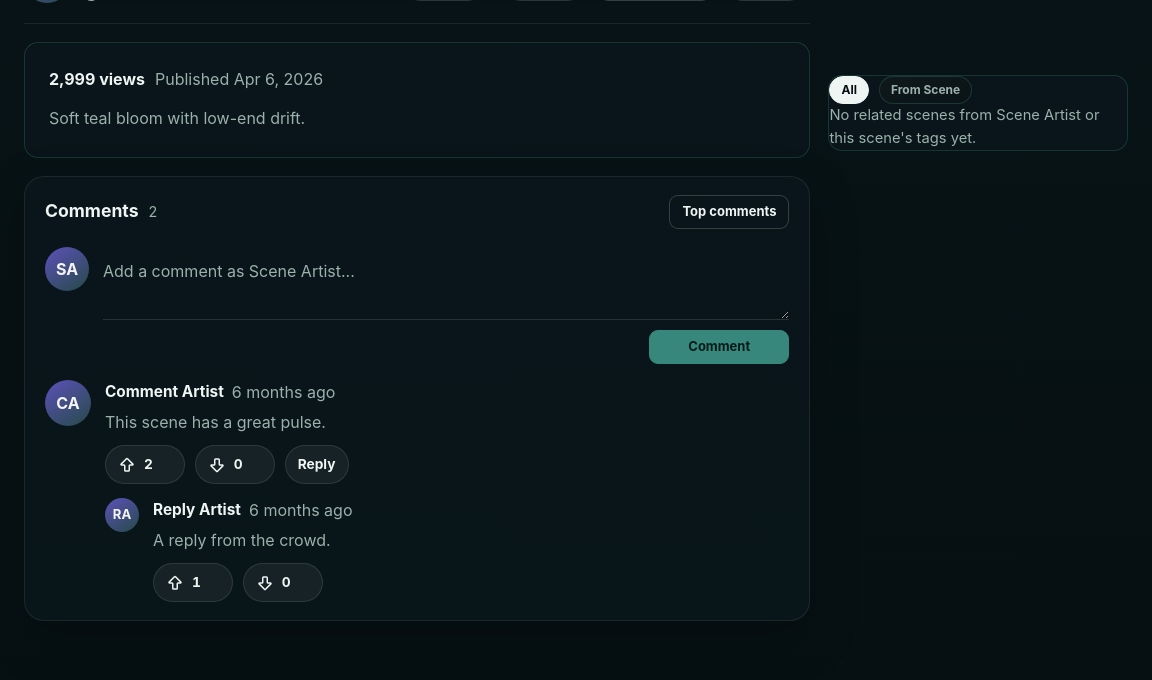
Test: SceneDetailPage route states › loads comments and supports replies and comment voting
(page scrolled)
Expected: the text "This scene has a great pulse." is shown, [105,412,326,432]
Expected: the text "A reply from the crowd." is shown, [153,530,331,550]
Click the button named "upvote 2". click: (145, 464)
box: [105,445,185,484]
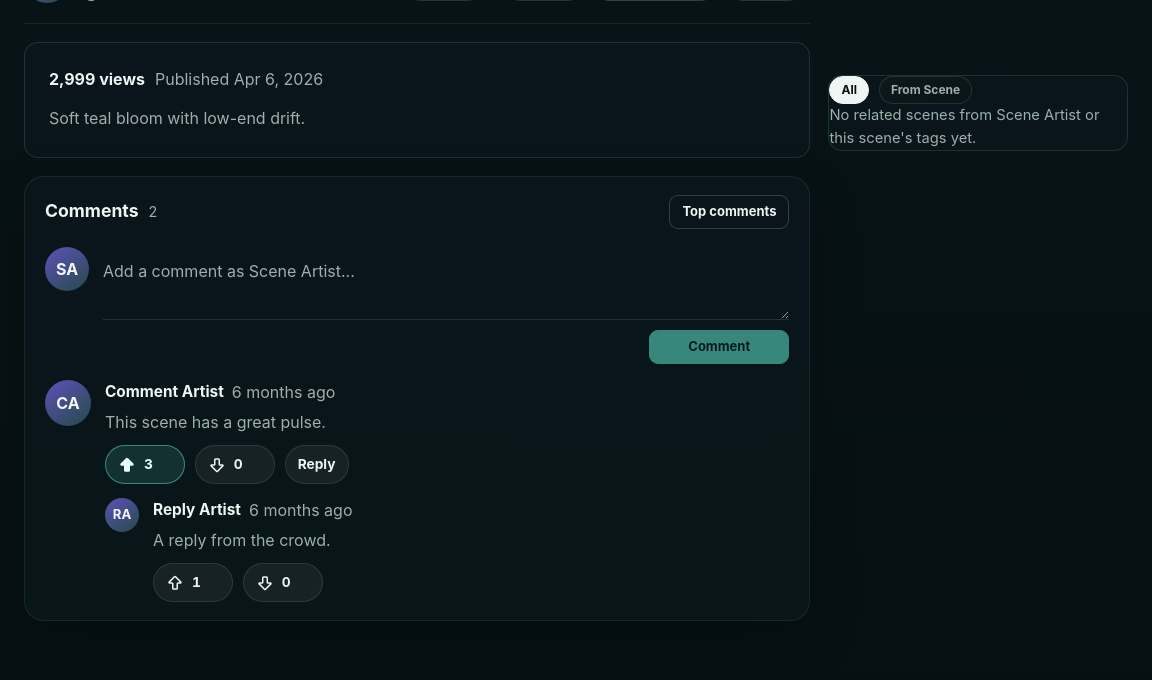
Now the button named "upvote 3" is pressed
Click the button named "upvote 3". click: (145, 464)
box: [105,445,185,484]
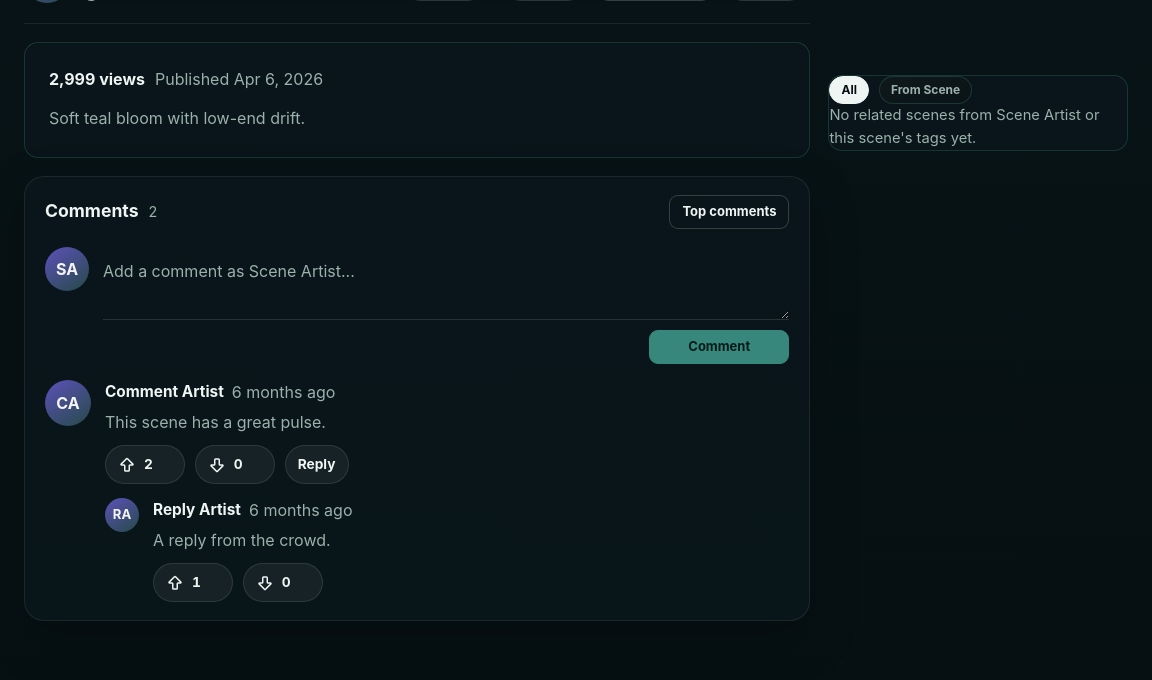
Now the button named "upvote 2" is not pressed, box [105,445,185,484]
Click the button "Reply". click: (317, 464)
box: [285,445,348,484]
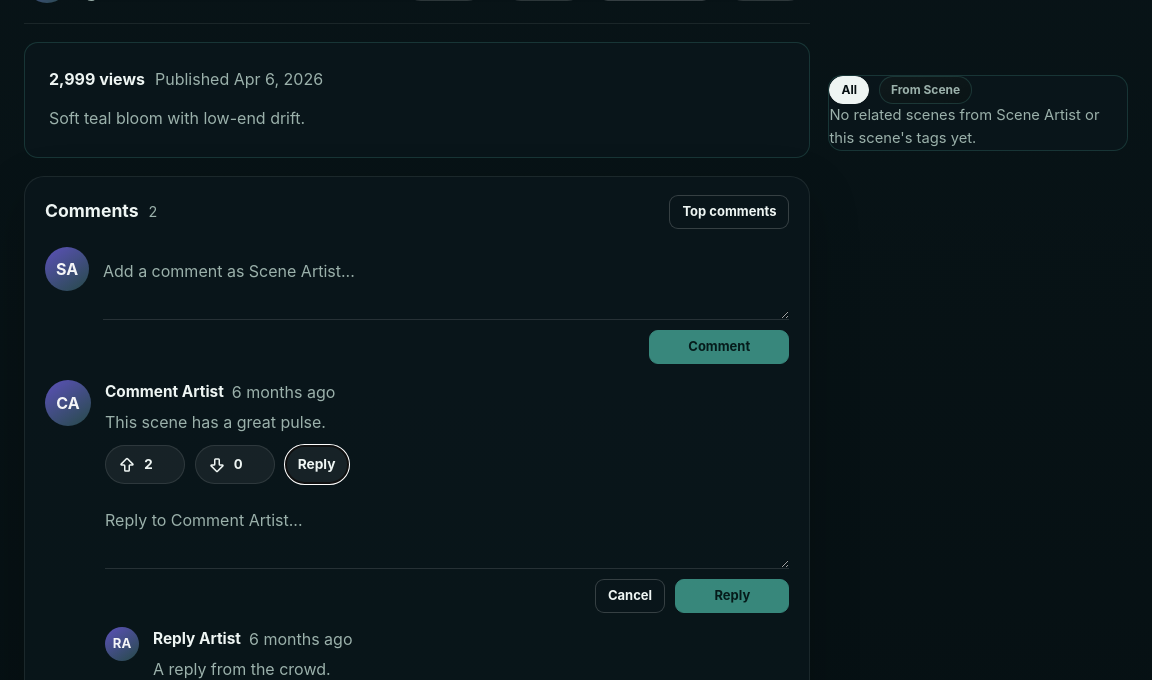
Type "New reply from UI" into the text box labelled "Reply to Comment Artist...". click: (447, 532)
box: [105,496,790,569]
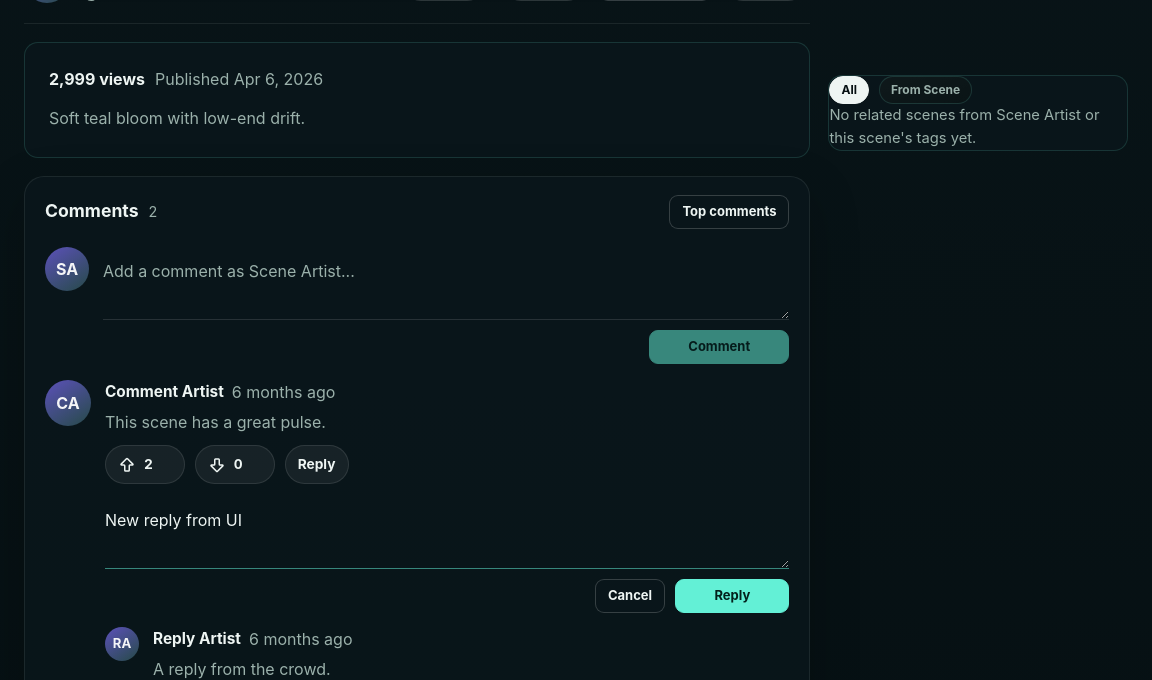
Now the form named "reply to comment artist" is shown, box [105,496,790,613]
Click the 2nd button "Reply". click: (732, 596)
box: [675,579,789,613]
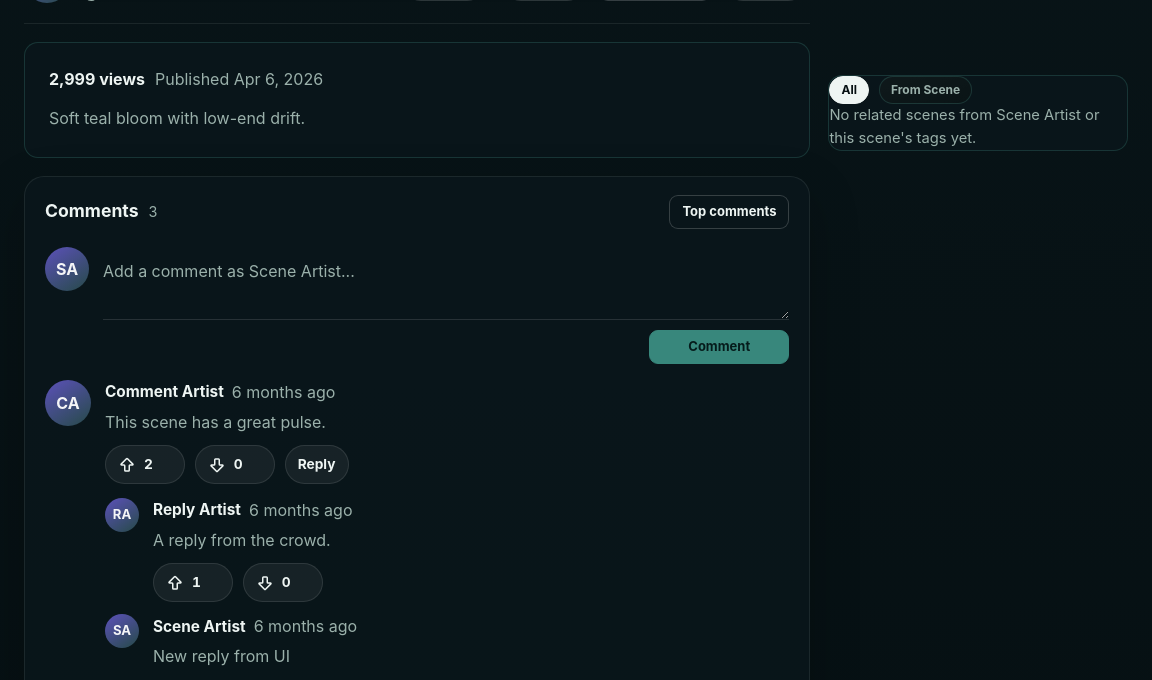
Now the text "New reply from UI" is shown, box [153,646,290,666]
